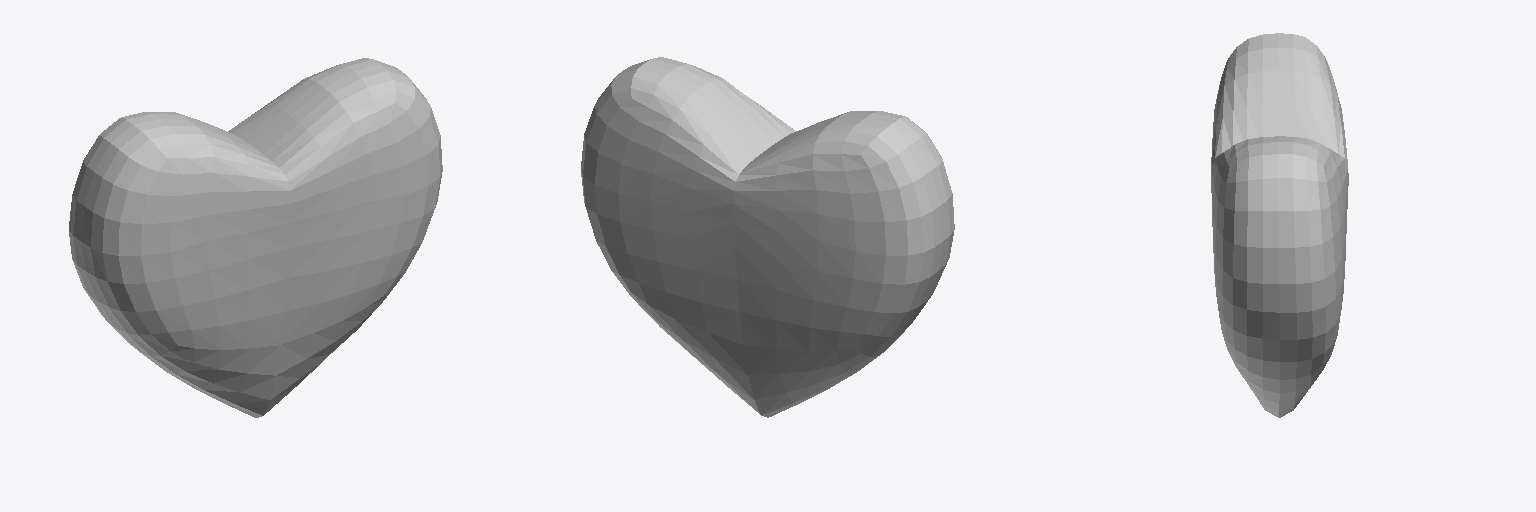
File: heartObj.obj
3 views of the same model, side by side, from view 1: azimuth 30°, elevation 25°; view 2: azimuth 150°, elevation 25°; view 3: azimuth 270°, elevation 25° (orthographic).
Parts seen in each view (by area): view 1: Cube; view 2: Cube; view 3: Cube.
Boxes of the visible parts, x1=… form: Cube: x1=69, y1=58, x2=442, y2=417; Cube: x1=581, y1=57, x2=954, y2=417; Cube: x1=1211, y1=33, x2=1348, y2=417.
Size of the model in its own units: 2.39 by 2.12 by 0.813.